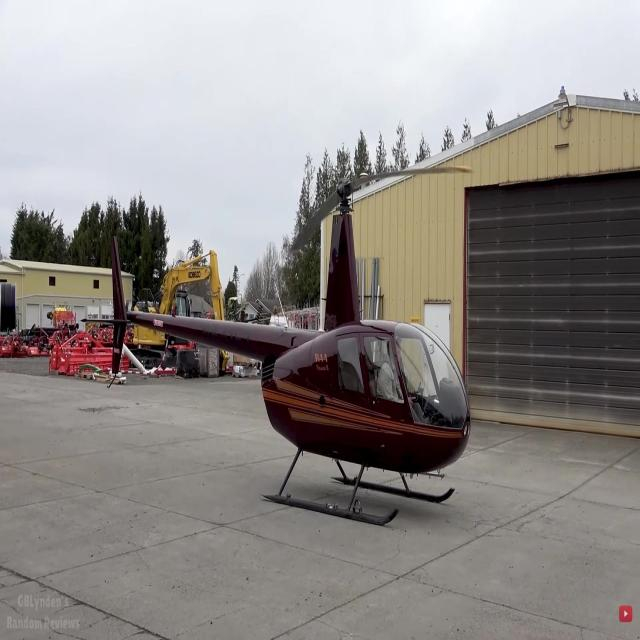CIV_HELO: (79, 178, 472, 530)
